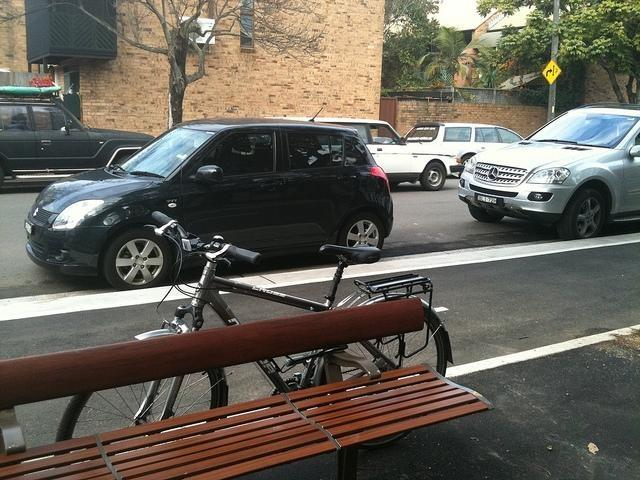bicycle: (54, 208, 451, 444)
car: (22, 120, 394, 287), (458, 107, 640, 237), (265, 117, 462, 192), (404, 123, 525, 178)
truck: (0, 90, 153, 182)
